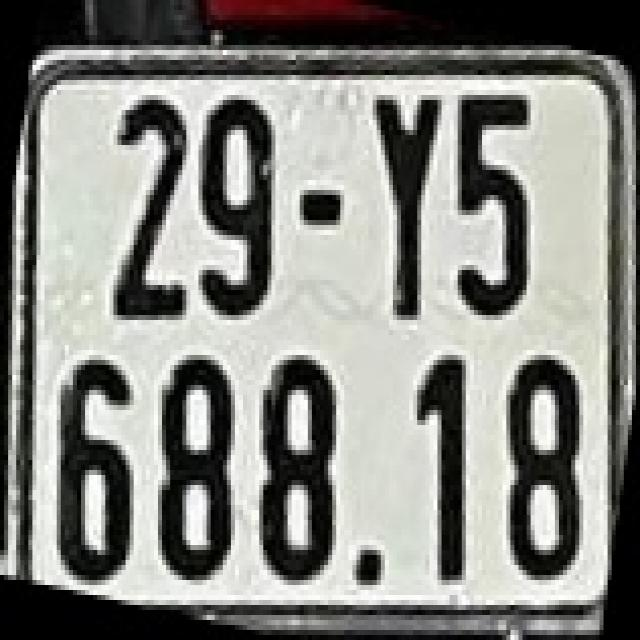1: (409, 350, 478, 585)
2: (106, 90, 190, 320)
5: (454, 85, 534, 315)
6: (53, 355, 134, 580)
8: (255, 350, 340, 585), (502, 350, 588, 580), (154, 355, 235, 580)
9: (194, 90, 280, 320)
Y: (368, 90, 442, 320)
